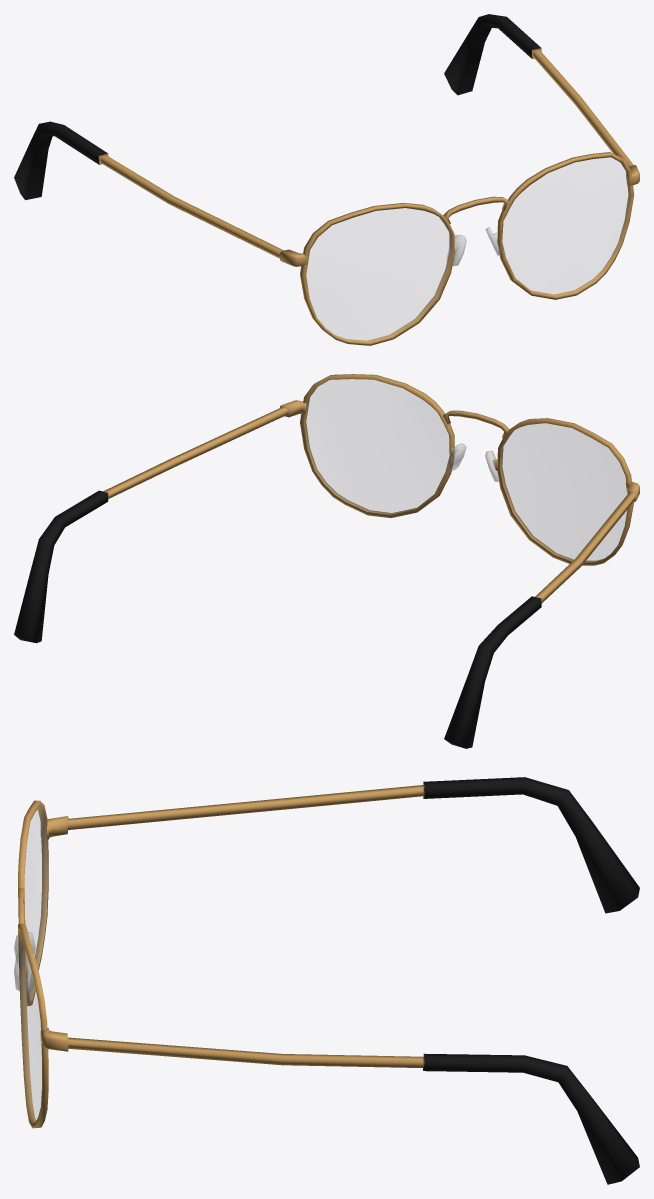
Rendered from femaleglass2.glb.
3 renders of one model, top to bottom at view 1: azimuth 30°, elevation 25°; view 2: azimuth 150°, elevation 25°; view 3: azimuth 270°, elevation 25°, orthographic. The views are drawn at different scales.
Parts seen in each view (by area): view 1: Wolf3D_Glasses; view 2: Wolf3D_Glasses; view 3: Wolf3D_Glasses.
Boxes of the visible parts, x1,y1,x2,y2 form: Wolf3D_Glasses: (14,14,639,345); Wolf3D_Glasses: (14,374,639,748); Wolf3D_Glasses: (14,777,639,1184).
Bounding box in the file's own units: 0.1593 × 0.0466 × 0.1482.
Materials: 1 (1 with a texture image).
